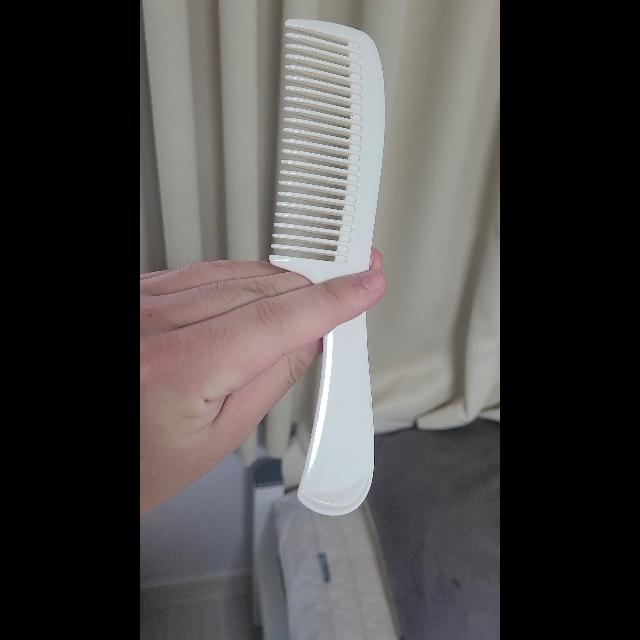COMB: (268, 19, 386, 516)
